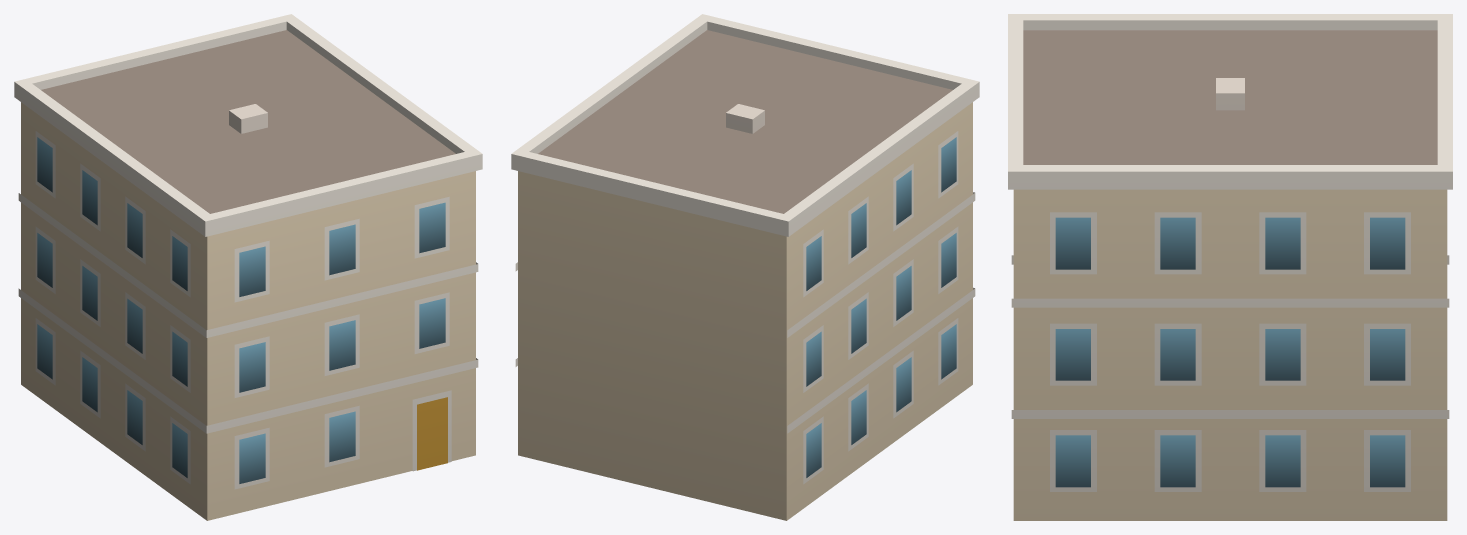
Rendered from vee_leftbb2_far.glb.
3 views of the same model, side by side, from view 1: azimuth 30°, elevation 25°; view 2: azimuth 150°, elevation 25°; view 3: azimuth 270°, elevation 25° (orthographic). The views are drawn at different scales.
Parts seen in each view (by area): view 1: vee_leftbb2_far; view 2: vee_leftbb2_far; view 3: vee_leftbb2_far.
Part boxes in pixels (x1,y1,x2,y2): vee_leftbb2_far: [14, 14, 482, 520]; vee_leftbb2_far: [511, 14, 979, 520]; vee_leftbb2_far: [1008, 14, 1452, 520].
Size of the model in its own units: 10.32 by 10.97 by 12.32.
Materials: 1 (1 with a texture image).
